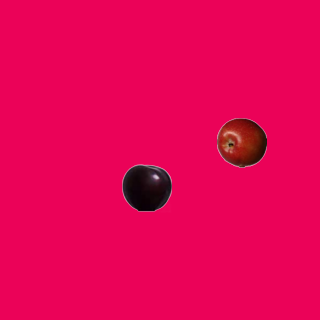Apple Braeburn: (216, 117, 266, 167)
Cherry Wax Black: (121, 162, 171, 212)
